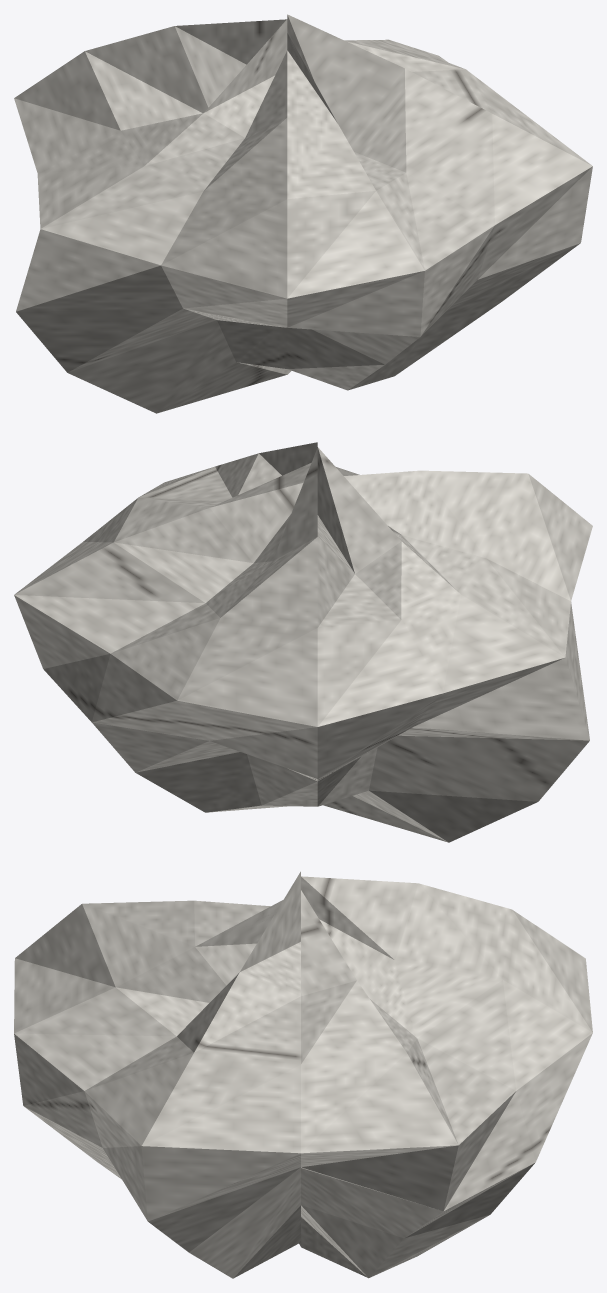
File: rock3.obj
The picture shows the model from 3 angles, top to bottom: view 1: azimuth 30°, elevation 25°; view 2: azimuth 150°, elevation 25°; view 3: azimuth 270°, elevation 25°; orthographic projection. The views are drawn at different scales.
Size of the model in its own units: 2.33 by 1.62 by 2.22.
Materials: 1 (1 with a texture image).
